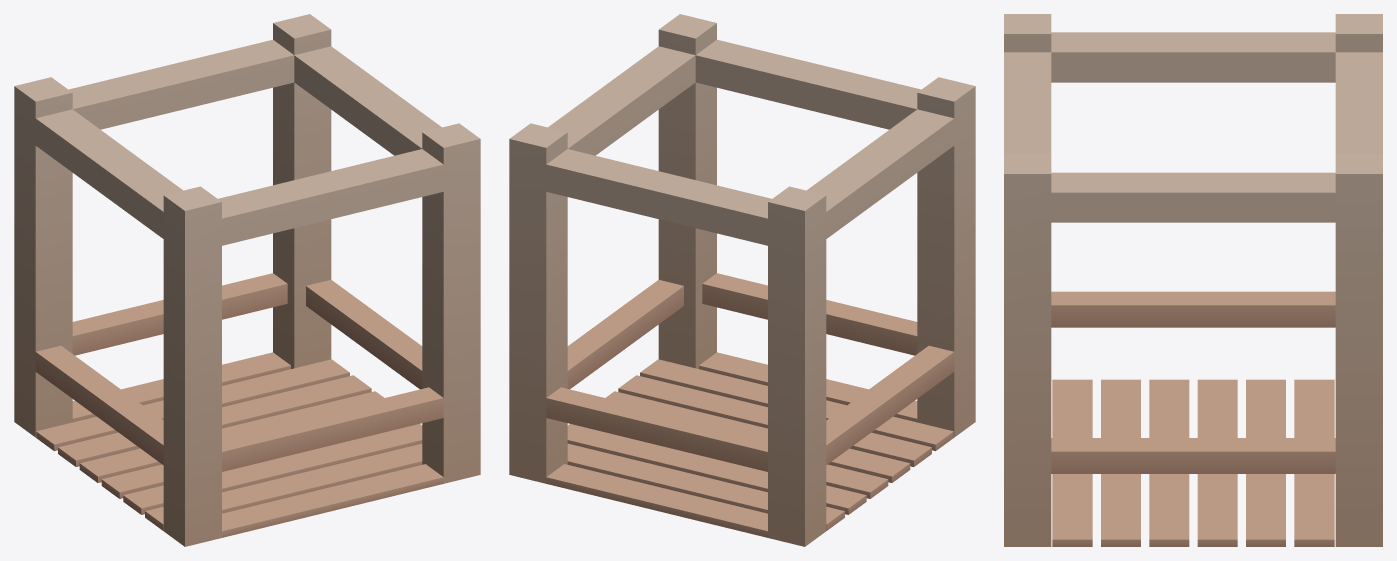
Rendered from tower-square-mid-open.glb.
The picture shows the model from 3 angles, left to right: view 1: azimuth 30°, elevation 25°; view 2: azimuth 150°, elevation 25°; view 3: azimuth 270°, elevation 25°; orthographic projection. The views are drawn at different scales.
Visible parts, largest first — view 1: tower-square-mid-open; view 2: tower-square-mid-open; view 3: tower-square-mid-open.
Part boxes in pixels (x1=…): tower-square-mid-open: x1=14, y1=14, x2=480, y2=546; tower-square-mid-open: x1=509, y1=14, x2=975, y2=546; tower-square-mid-open: x1=1004, y1=14, x2=1382, y2=546.
Bounding box in the file's own units: 0.93 × 1.01 × 0.93.
